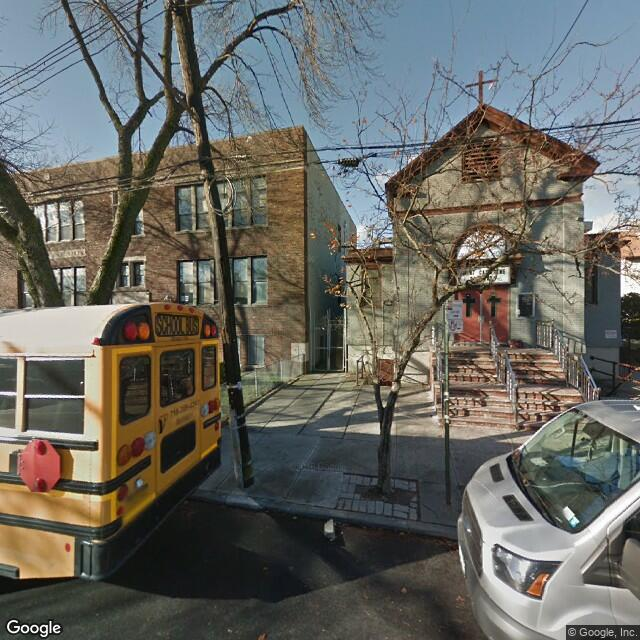litter: (321, 517, 340, 542), (288, 513, 299, 523), (396, 529, 407, 538)
